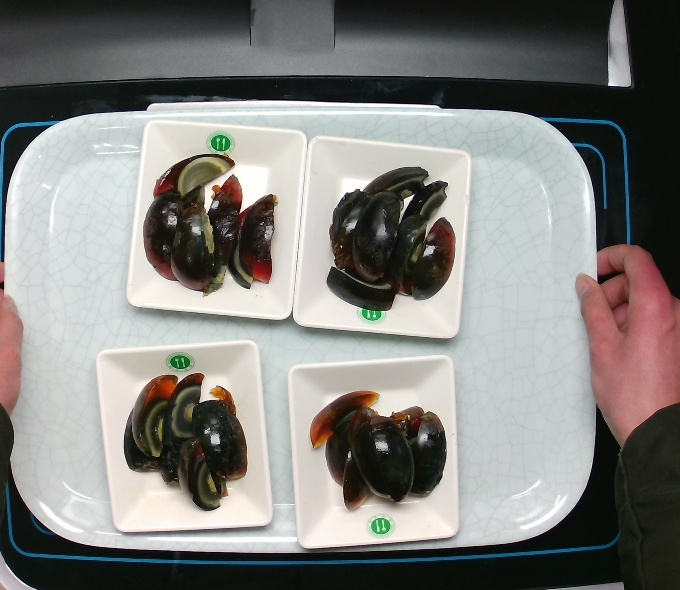wcq-PiDan: (315, 160, 465, 312), (132, 145, 281, 297), (110, 365, 250, 515), (299, 385, 454, 515)
